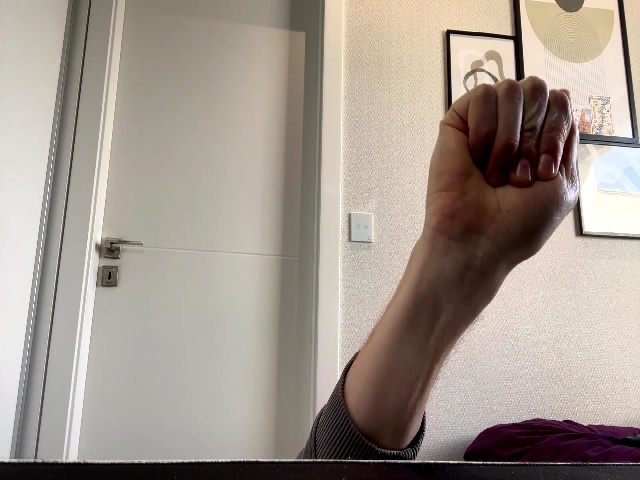A: (428, 76, 580, 263)
